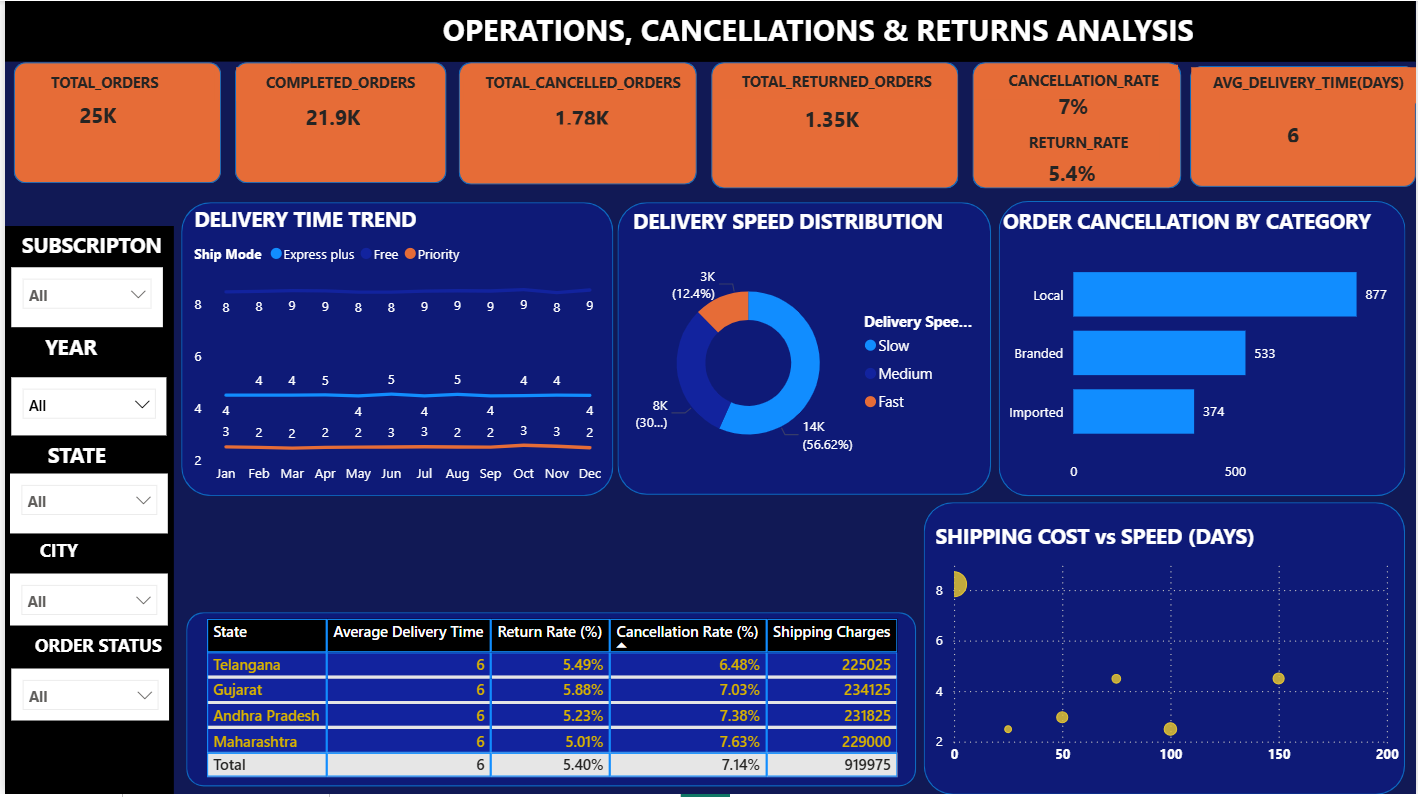

Layout of this report page (visuals, bound fields, positions):
{"tool":"powerbi","page":{"name":"OPERATIONS, CANCELLATIONS & RETURNS ANALYSIS","canvas":[1280,720],"ordinal":2},"visuals":[{"type":"shape","box":[164.1,555,662.3,158],"z":0},{"type":"shape","box":[640.6,55.5,224.4,114.6],"z":1000},{"type":"shape","box":[0,203.9,153.2,516.4],"z":2000},{"type":"shape","box":[0,0,1280,55],"z":3000},{"type":"shape","box":[8.4,55.5,188.2,109.8],"z":4000},{"type":"textbox","box":[259.4,2.4,985.7,53.1],"z":5000},{"type":"textbox","box":[14.5,60.3,174.9,30.2],"z":6000},{"type":"cardVisual","fields":{"Data":["CountNonNull(Dmart.Order ID)"]},"box":[38.6,74.8,105,54.3],"z":7000},{"type":"shape","box":[208.7,55.5,191.8,109.8],"z":8000},{"type":"textbox","box":[209.9,60.3,182.2,30.2],"z":9000},{"type":"cardVisual","fields":{"Data":["Dmart.Completed Orders"]},"box":[243.7,77.2,115.8,53.1],"z":10000},{"type":"shape","box":[411.4,55.5,216,111],"z":11000},{"type":"textbox","box":[416.2,60.3,206.3,30.2],"z":12000},{"type":"cardVisual","fields":{"Data":["Dmart.Cancelled Orders"]},"box":[469.3,79.6,112.2,50.7],"z":13000},{"type":"shape","box":[878.3,55.5,189.4,114.6],"z":14000},{"type":"cardVisual","fields":{"Data":["Dmart.Returned Orders"]},"box":[696.1,79.6,112.2,53.1],"z":15000},{"type":"shape","box":[1074.9,59.1,205.1,109.8],"z":16000},{"type":"textbox","box":[1076.1,60.3,203.9,32.6],"z":17000},{"type":"cardVisual","fields":{"Data":["Dmart.Average Delivery Time"]},"box":[1134.1,94.1,90.5,51.9],"z":18000},{"type":"shape","box":[160.5,182.2,392.1,266.6],"z":19000},{"type":"shape","box":[556.2,182.2,339,265.4],"z":20000},{"type":"shape","box":[901.2,181,369.2,267.8],"z":21000},{"type":"shape","box":[833.7,454.8,436.7,265.4],"z":22000},{"type":"slicer","fields":{"Values":["DateTable.Year"]},"box":[6,341.4,141.2,53.1],"z":23000},{"type":"slicer","fields":{"Values":["Dmart.City"]},"box":[4.8,520,143.6,47.1],"z":24000},{"type":"slicer","fields":{"Values":["Dmart.State"]},"box":[4.8,428.3,143.6,54.3],"z":25000},{"type":"textbox","box":[8.4,394.5,119.4,37.4],"z":26000},{"type":"textbox","box":[6,295.6,119.4,37.4],"z":27000},{"type":"textbox","box":[4.8,482.6,165.3,37.4],"z":28000},{"type":"slicer","fields":{"Values":["Dmart.Subscription"]},"box":[6,241.3,137.5,54.3],"z":29000},{"type":"textbox","box":[0,203.9,155.6,37.4],"z":30000},{"type":"lineChart","title":"DELIVERY TIME TREND","fields":{"Category":["DateTable.Month"],"Y":["Dmart.Average Delivery Time"],"Series":["Dmart.Ship Mode"]},"box":[166.5,184.6,381.2,261.8],"z":31000},{"type":"donutChart","title":"DELIVERY SPEED DISTRIBUTION","fields":{"Category":["Dmart.Delivery Speed Bucket"],"Y":["Dmart.Orders by Delivery Speed"]},"box":[564.6,187,324.5,258.2],"z":32000},{"type":"textbox","box":[649.1,59.1,206.3,30.2],"z":33000},{"type":"textbox","box":[883.1,57.9,181,31.4],"z":34000},{"type":"cardVisual","fields":{"Data":["Dmart.Return Rate (%)"]},"box":[918.1,129.1,111,51.9],"z":35000},{"type":"textbox","box":[883.1,114.6,164.1,31.4],"z":36000},{"type":"cardVisual","fields":{"Data":["Dmart.Cancellation Rate (%)"]},"box":[926.5,66.4,111,55.5],"z":37000},{"type":"tableEx","fields":{"Values":["Dmart.State","Dmart.Average Delivery Time","Dmart.Return Rate (%)","Dmart.Cancellation Rate (%)","Sum(Dmart.Shipping Charges)"]},"box":[177.3,556.2,656.3,164.1],"z":38000},{"type":"scatterChart","title":"SHIPPING COST vs SPEED (DAYS)","fields":{"X":["Dmart.Shipping Charges"],"Y":["Dmart.Average Delivery Time"],"Size":["Dmart.Total Orders"]},"box":[839.7,472.9,430.7,229.2],"z":39000},{"type":"clusteredBarChart","title":"ORDER CANCELLATION BY CATEGORY","fields":{"Y":["Dmart.Cancelled Orders"],"Category":["Dmart.Category"]},"box":[900,187,369.2,258.2],"z":40000},{"type":"slicer","fields":{"Values":["Dmart.Order Status"]},"box":[6,605.6,143.6,47.1],"z":40001},{"type":"textbox","box":[0,568.2,165.3,37.4],"z":40002}]}

Visuals, with their boxes in screenshot pixels (x1, y1, x2, y2), scaled from the page's 1280x720 canvas onto the 1418x797 screenshot:
shape: {"left": 182, "top": 614, "right": 915, "bottom": 789}
shape: {"left": 710, "top": 61, "right": 958, "bottom": 188}
shape: {"left": 0, "top": 226, "right": 170, "bottom": 796}
shape: {"left": 0, "top": 0, "right": 1417, "bottom": 61}
shape: {"left": 9, "top": 61, "right": 218, "bottom": 183}
textbox: {"left": 287, "top": 3, "right": 1379, "bottom": 61}
textbox: {"left": 16, "top": 67, "right": 210, "bottom": 100}
cardVisual - CountNonNull(Dmart.Order ID): {"left": 43, "top": 83, "right": 159, "bottom": 143}
shape: {"left": 231, "top": 61, "right": 444, "bottom": 183}
textbox: {"left": 233, "top": 67, "right": 434, "bottom": 100}
cardVisual - Dmart.Completed Orders: {"left": 270, "top": 85, "right": 398, "bottom": 144}
shape: {"left": 456, "top": 61, "right": 695, "bottom": 184}
textbox: {"left": 461, "top": 67, "right": 690, "bottom": 100}
cardVisual - Dmart.Cancelled Orders: {"left": 520, "top": 88, "right": 644, "bottom": 144}
shape: {"left": 973, "top": 61, "right": 1183, "bottom": 188}
cardVisual - Dmart.Returned Orders: {"left": 771, "top": 88, "right": 895, "bottom": 147}
shape: {"left": 1191, "top": 65, "right": 1417, "bottom": 187}
textbox: {"left": 1192, "top": 67, "right": 1417, "bottom": 103}
cardVisual - Dmart.Average Delivery Time: {"left": 1256, "top": 104, "right": 1357, "bottom": 162}
shape: {"left": 178, "top": 202, "right": 612, "bottom": 497}
shape: {"left": 616, "top": 202, "right": 992, "bottom": 495}
shape: {"left": 998, "top": 200, "right": 1407, "bottom": 497}
shape: {"left": 924, "top": 503, "right": 1407, "bottom": 796}
slicer - DateTable.Year: {"left": 7, "top": 378, "right": 163, "bottom": 437}
slicer - Dmart.City: {"left": 5, "top": 576, "right": 164, "bottom": 628}
slicer - Dmart.State: {"left": 5, "top": 474, "right": 164, "bottom": 534}
textbox: {"left": 9, "top": 437, "right": 142, "bottom": 478}
textbox: {"left": 7, "top": 327, "right": 139, "bottom": 369}
textbox: {"left": 5, "top": 534, "right": 188, "bottom": 576}
slicer - Dmart.Subscription: {"left": 7, "top": 267, "right": 159, "bottom": 327}
textbox: {"left": 0, "top": 226, "right": 172, "bottom": 267}
"DELIVERY TIME TREND" lineChart: {"left": 184, "top": 204, "right": 607, "bottom": 494}
"DELIVERY SPEED DISTRIBUTION" donutChart: {"left": 625, "top": 207, "right": 985, "bottom": 493}
textbox: {"left": 719, "top": 65, "right": 948, "bottom": 99}
textbox: {"left": 978, "top": 64, "right": 1179, "bottom": 99}
cardVisual - Dmart.Return Rate (%): {"left": 1017, "top": 143, "right": 1140, "bottom": 200}
textbox: {"left": 978, "top": 127, "right": 1160, "bottom": 162}
cardVisual - Dmart.Cancellation Rate (%): {"left": 1026, "top": 74, "right": 1149, "bottom": 135}
tableEx - Dmart.State x Dmart.Average Delivery Time: {"left": 196, "top": 616, "right": 923, "bottom": 796}
"SHIPPING COST vs SPEED (DAYS)" scatterChart: {"left": 930, "top": 523, "right": 1407, "bottom": 777}
"ORDER CANCELLATION BY CATEGORY" clusteredBarChart: {"left": 997, "top": 207, "right": 1406, "bottom": 493}
slicer - Dmart.Order Status: {"left": 7, "top": 670, "right": 166, "bottom": 723}
textbox: {"left": 0, "top": 629, "right": 183, "bottom": 670}
